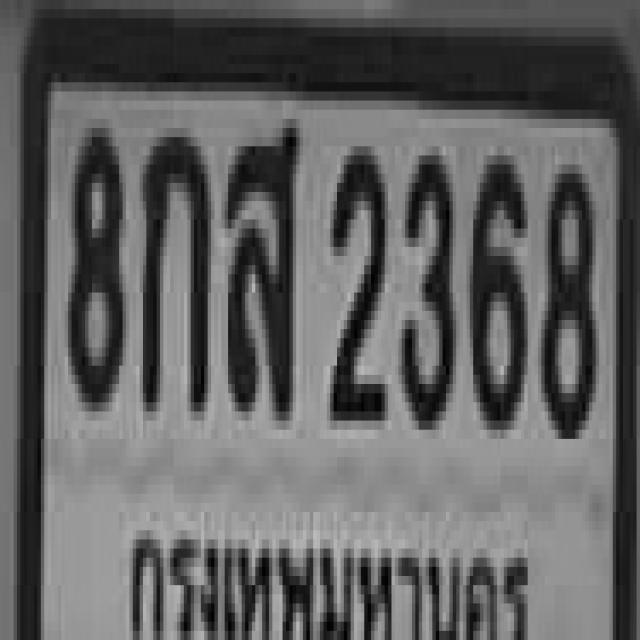10GorGai: (140, 128, 208, 402)
2: (327, 137, 381, 412)
3: (398, 146, 453, 421)
49SorSuea: (225, 119, 296, 411)
6: (466, 146, 524, 421)
8: (64, 119, 122, 402), (538, 155, 592, 430)
Bangkok: (121, 511, 538, 640)
